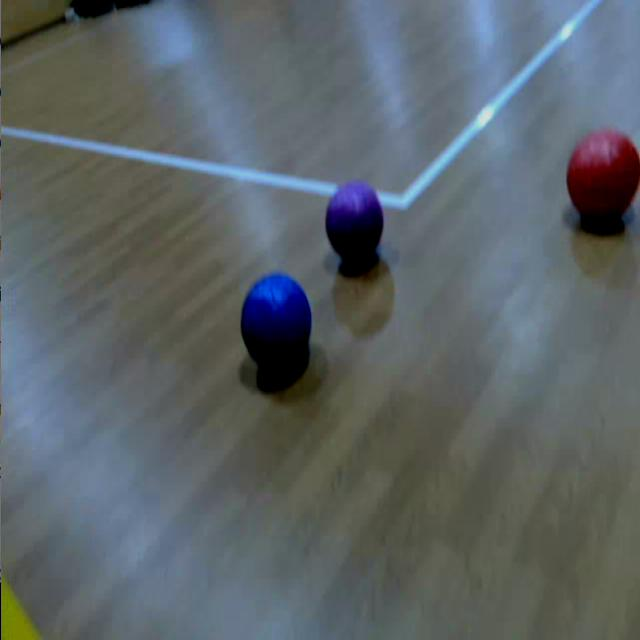blue_ball: (241, 272, 311, 369)
purple_ball: (326, 180, 384, 260)
red_ball: (566, 125, 640, 228)
